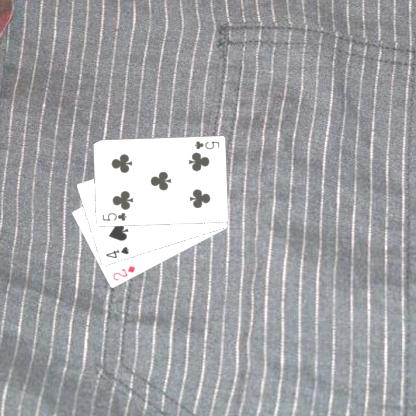2D: (110, 263, 137, 282)
4S: (103, 244, 130, 260)
5C: (192, 138, 220, 151), (100, 210, 127, 223)
